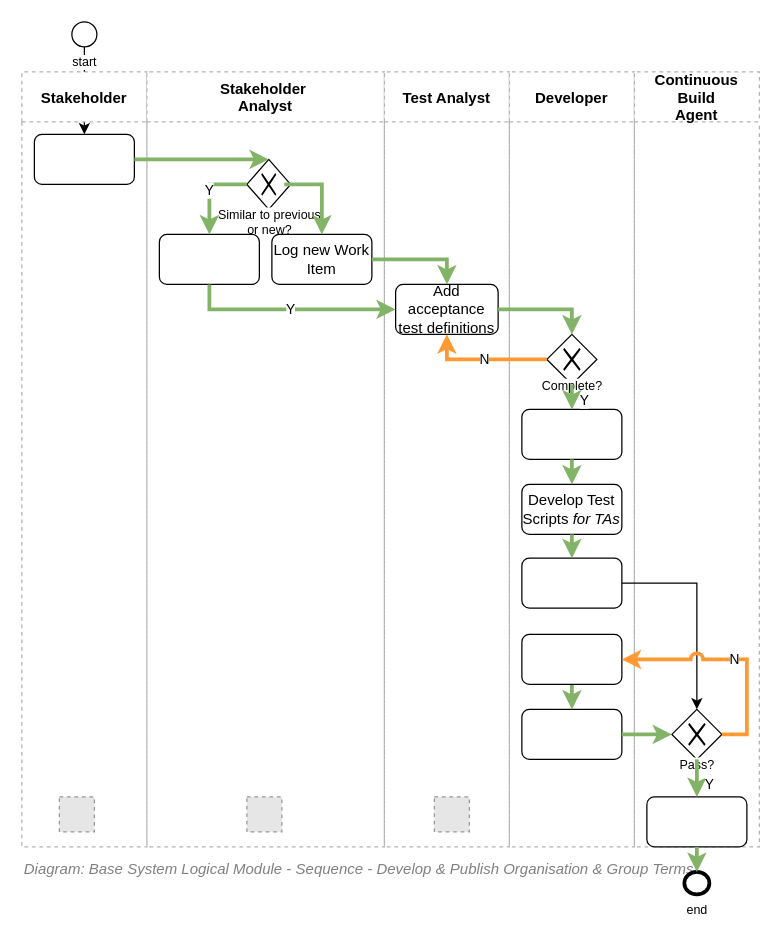
The diagram is 781 pixels wide and 940 high, and some of its shapes have lost their labels. Grey dashed boxes stand in for pictures. The shapes that lost their labels are listed below. From the top down, each one's centre as x and y in pixels, then its label:
At [83,158]: "User posts a desire, issue or complaint".
At [208,258]: "Link to existing work item".
At [571,433]: "Develop Test Data".
At [571,582]: "Commit Tests".
At [571,658]: "Develop System Code for SAs".
At [571,733]: "Commit Code".
At [696,821]: "Publish Package for Stakeholders".
